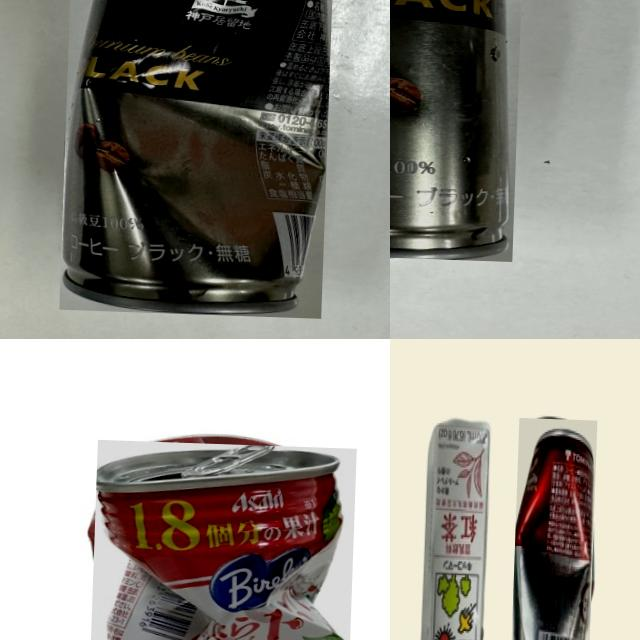Aluminium Foil: (418, 420, 491, 640)
Can: (57, 0, 333, 317), (85, 438, 355, 640), (390, 0, 525, 260), (508, 416, 596, 640)
